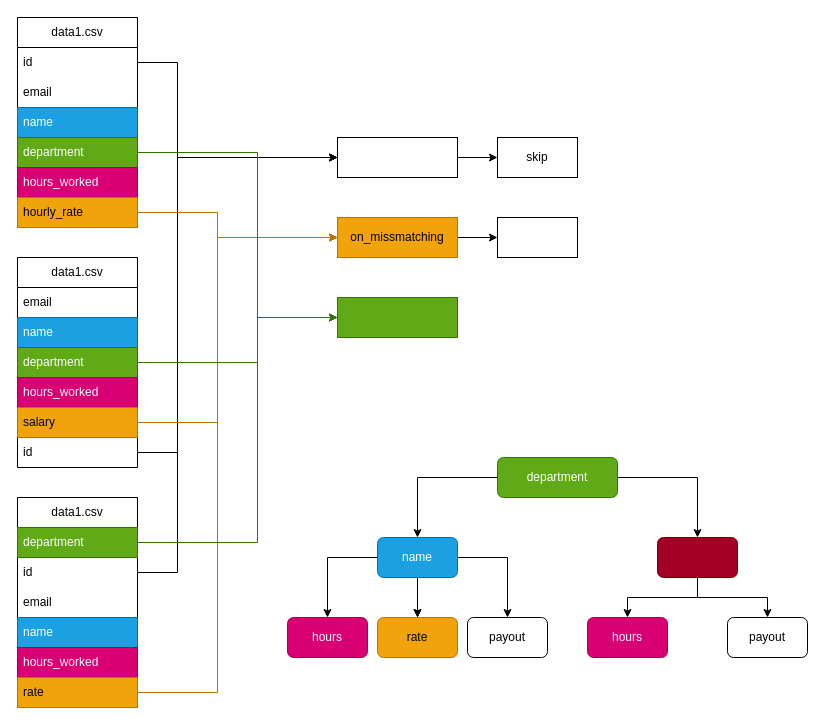
Some shapes in this 825 by 725 pixel diagram are drawn without their labels. The shapes that lost their labels are listed below. From the top down, each one's centre as x and y in pixels, then its label:
At pixel 397 157: "on_duplicates".
At pixel 537 237: "error".
At pixel 397 317: "group_by".
At pixel 697 557: "__summary__".
